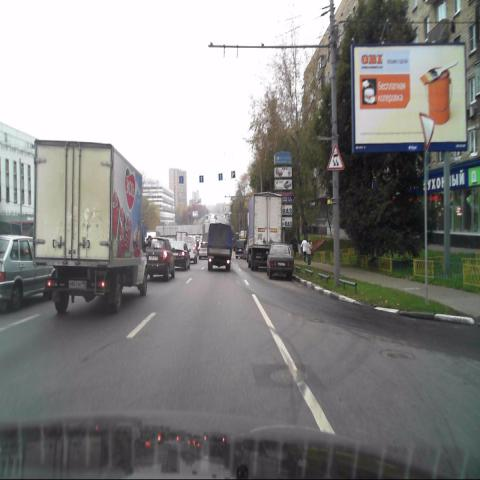1_15: (327, 144, 346, 170)
